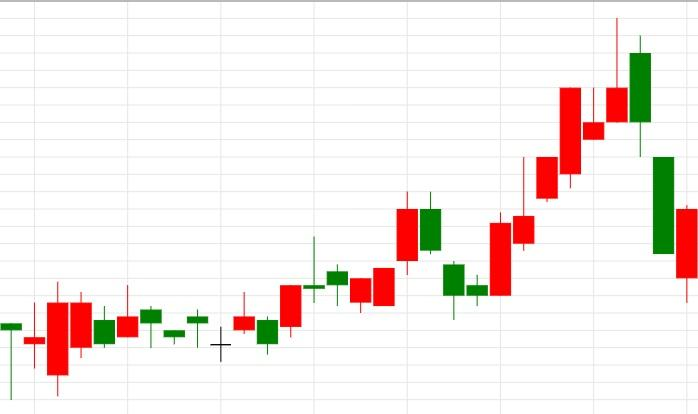shooting_star_fall: (489, 18, 628, 295)
